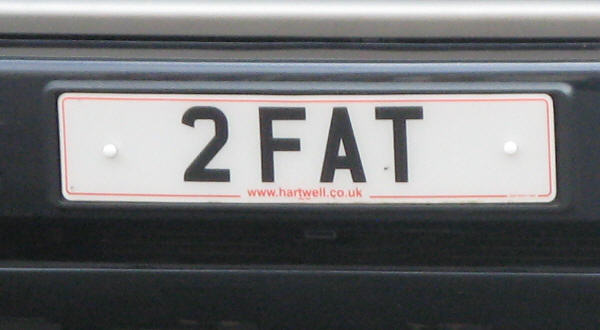license_plate: (57, 91, 557, 204)
